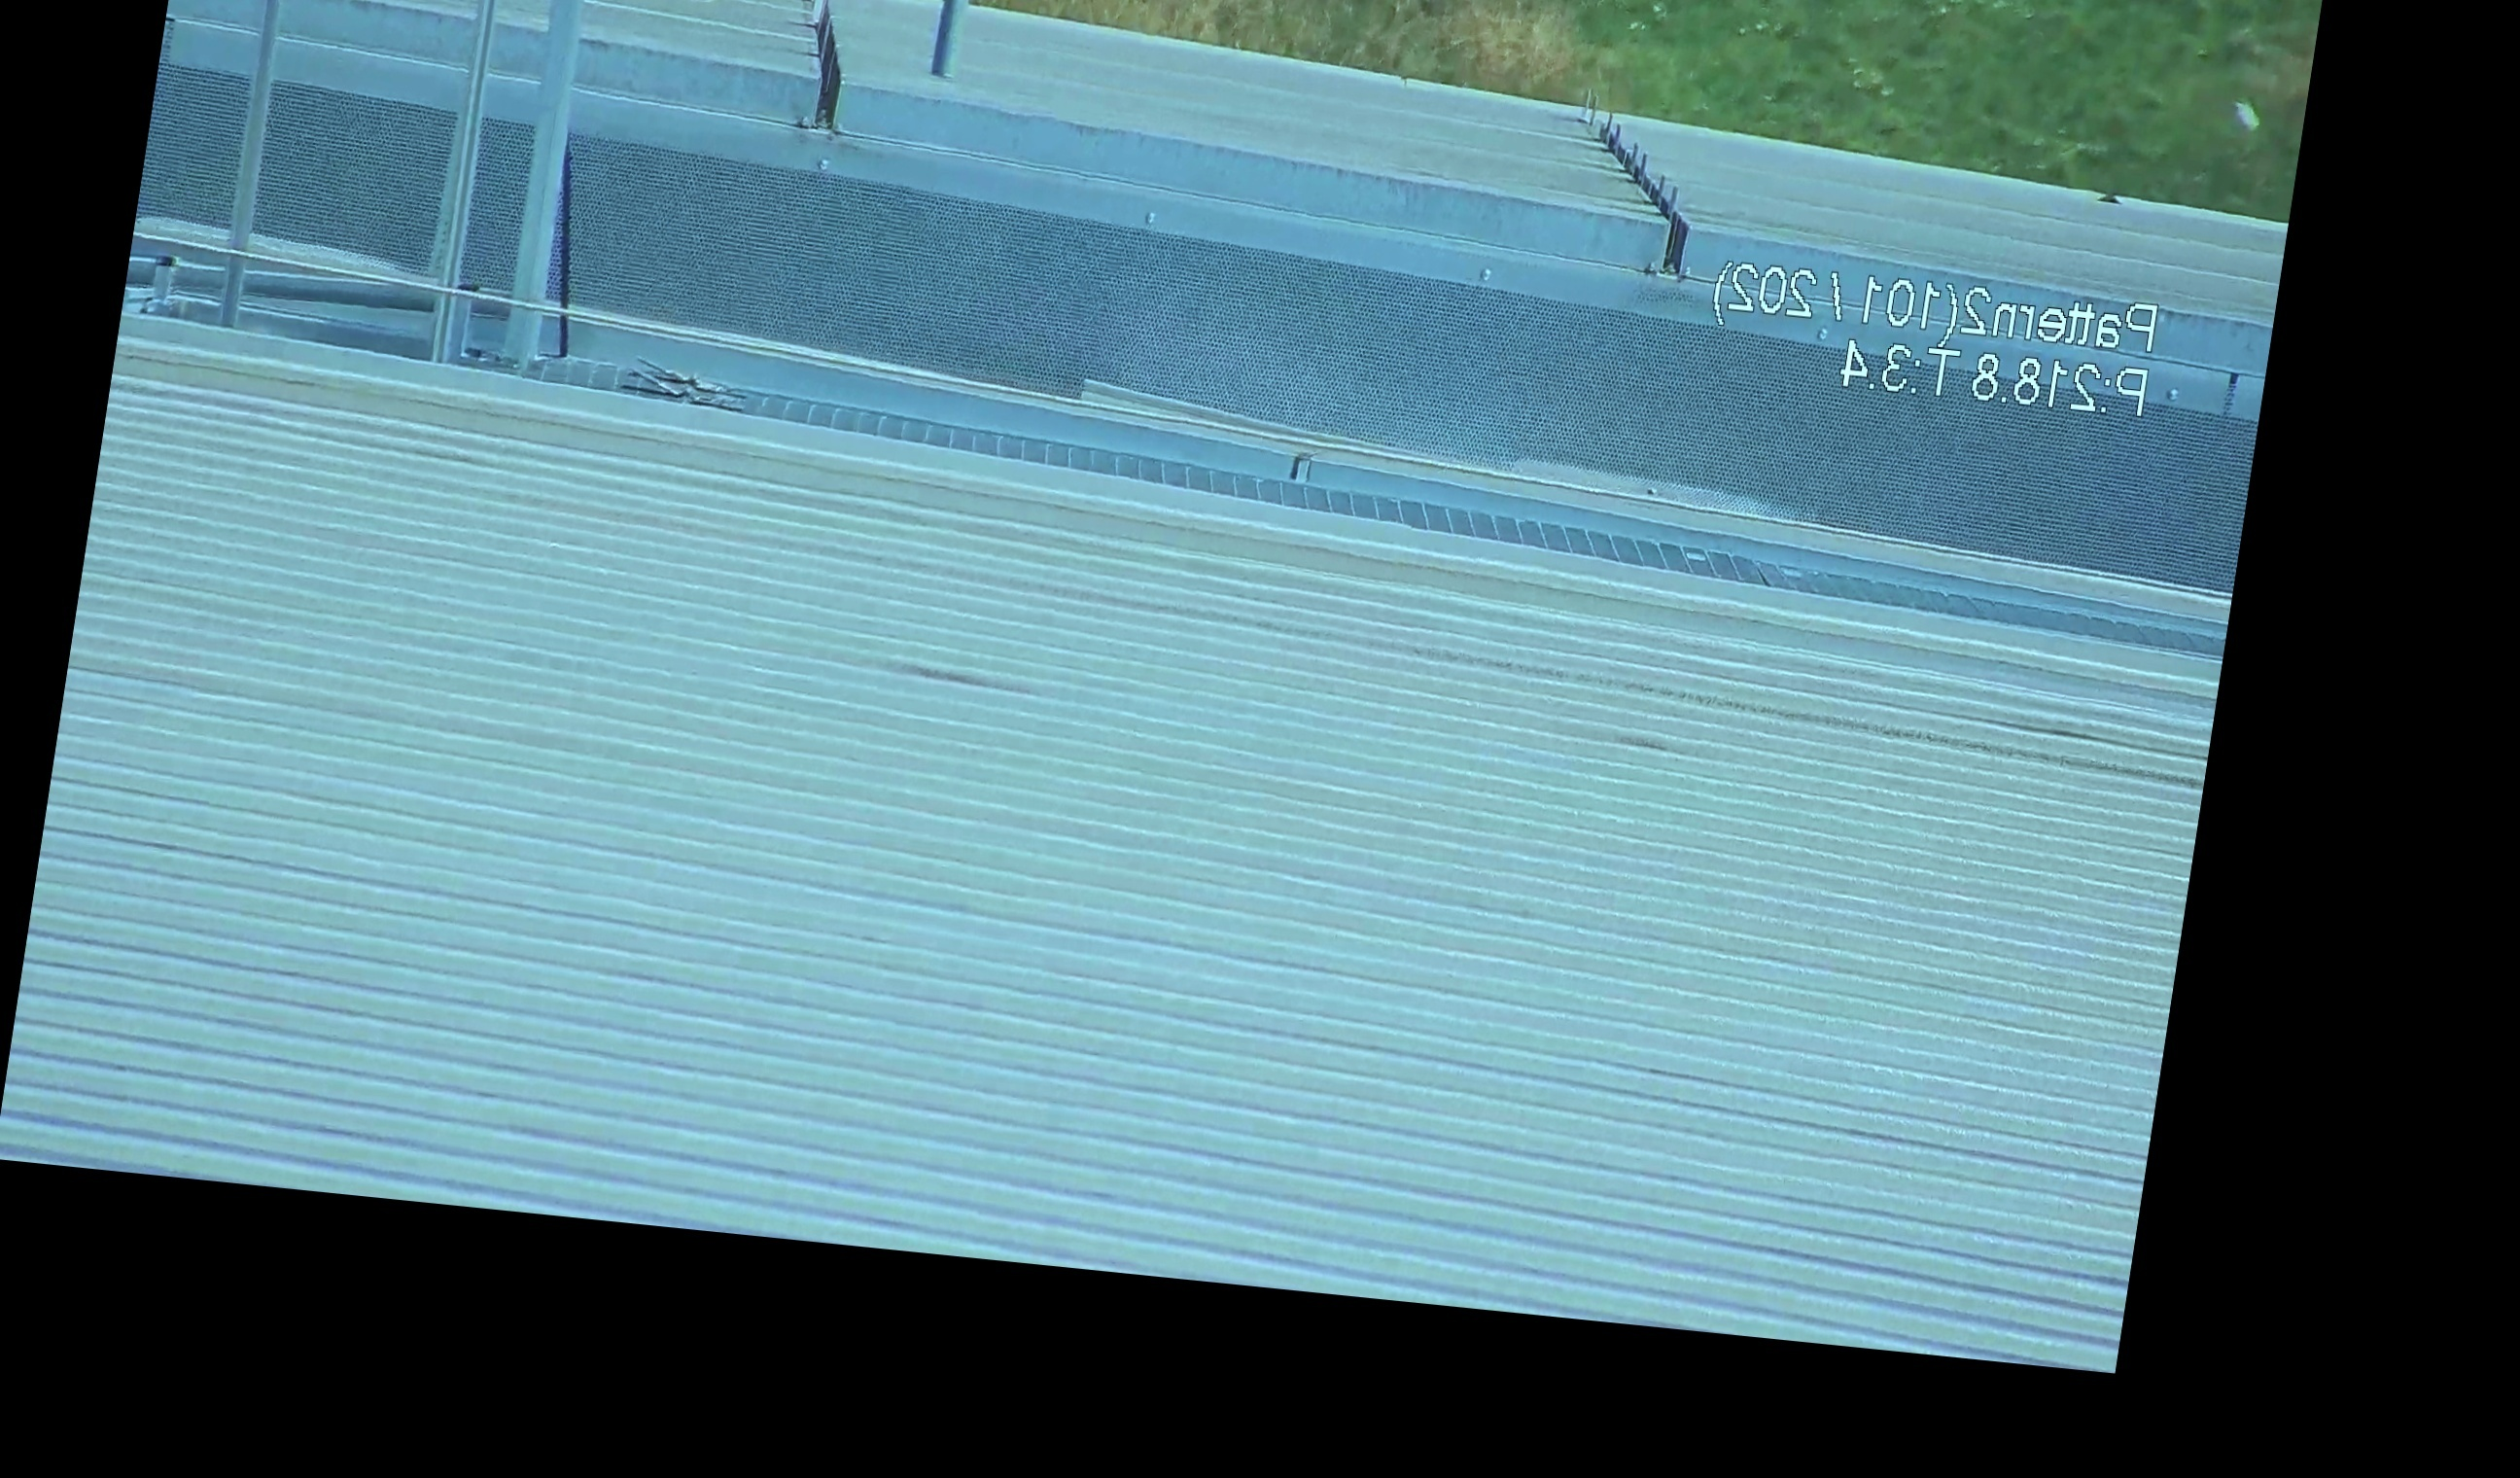Other: (770, 0, 862, 135)
